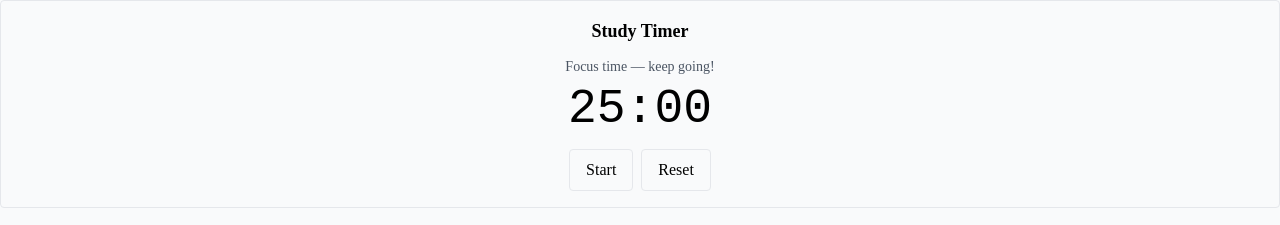
it: StudyTimer › resets back to 25:00 focus mode
Click the button "Start" at (601, 170), box [569,149,633,191]
Wait 3000 ms
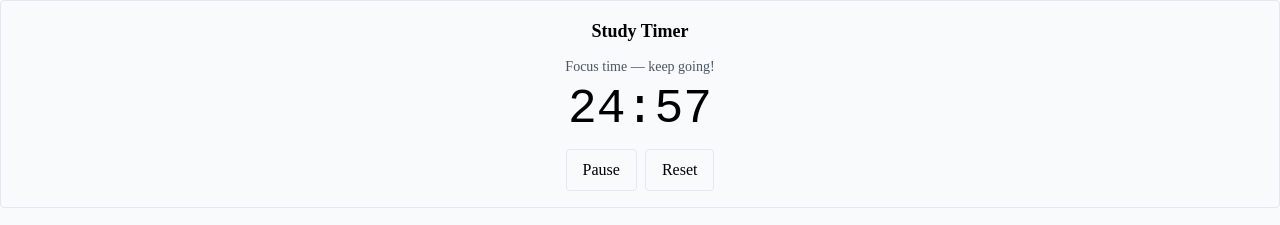
Click the button "Reset" at (680, 170), box [645,149,714,191]
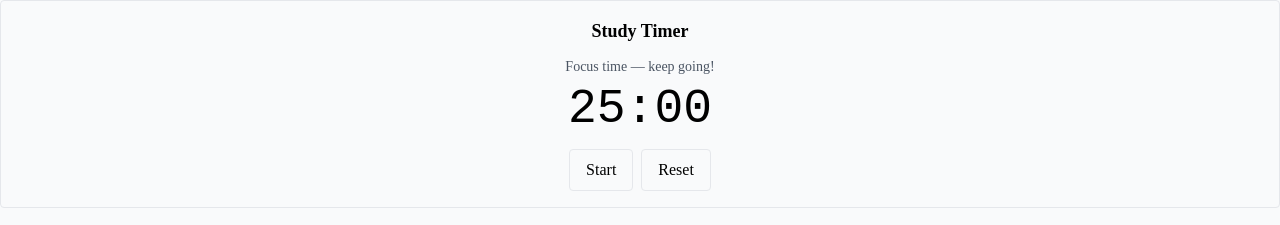
Check: the text "Focus time — keep going!" is shown, box [565,59,715,74]
Check: the text "25:00" is shown, box [568,82,712,136]
